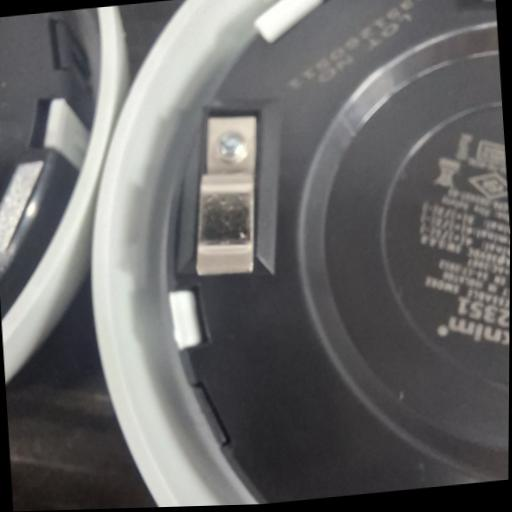yaysiz: (183, 108, 269, 282)
